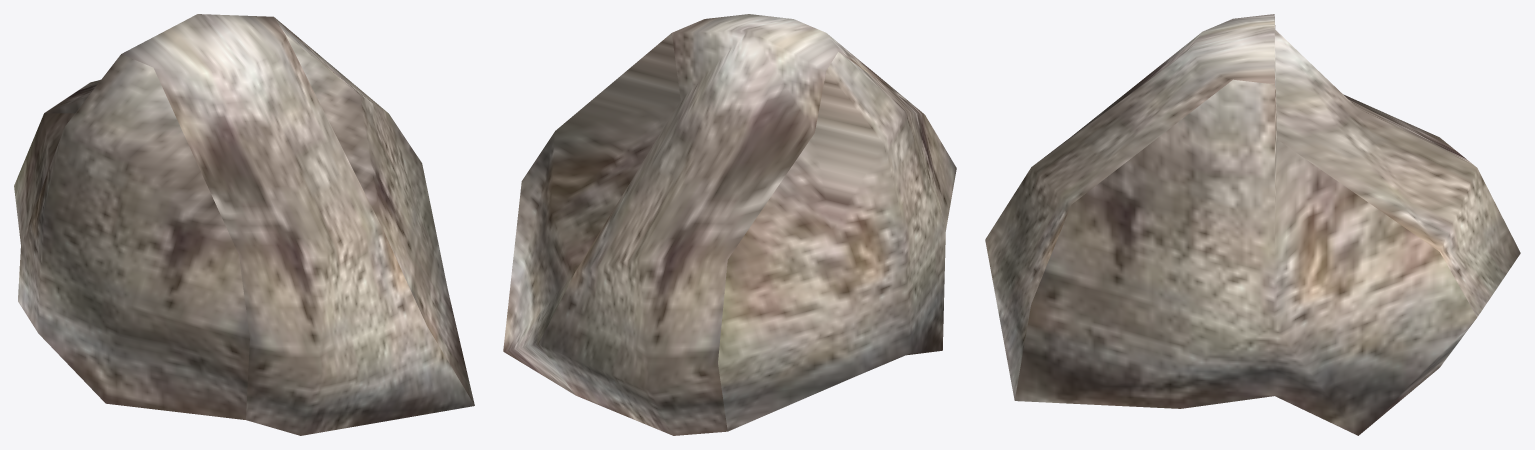
File: rock.glb
The picture shows the model from 3 angles, left to right: view 1: azimuth 30°, elevation 25°; view 2: azimuth 150°, elevation 25°; view 3: azimuth 270°, elevation 25°; orthographic projection. The views are drawn at different scales.
Visible parts, largest first — view 1: rock.ms3d.mo; view 2: rock.ms3d.mo; view 3: rock.ms3d.mo.
Boxes of the visible parts, <box> form: rock.ms3d.mo: <box>14,14,474,435</box>; rock.ms3d.mo: <box>503,14,956,435</box>; rock.ms3d.mo: <box>985,14,1520,435</box>.
Size of the model in its own units: 32.04 by 26.61 by 40.96.
Materials: 1 (1 with a texture image).
